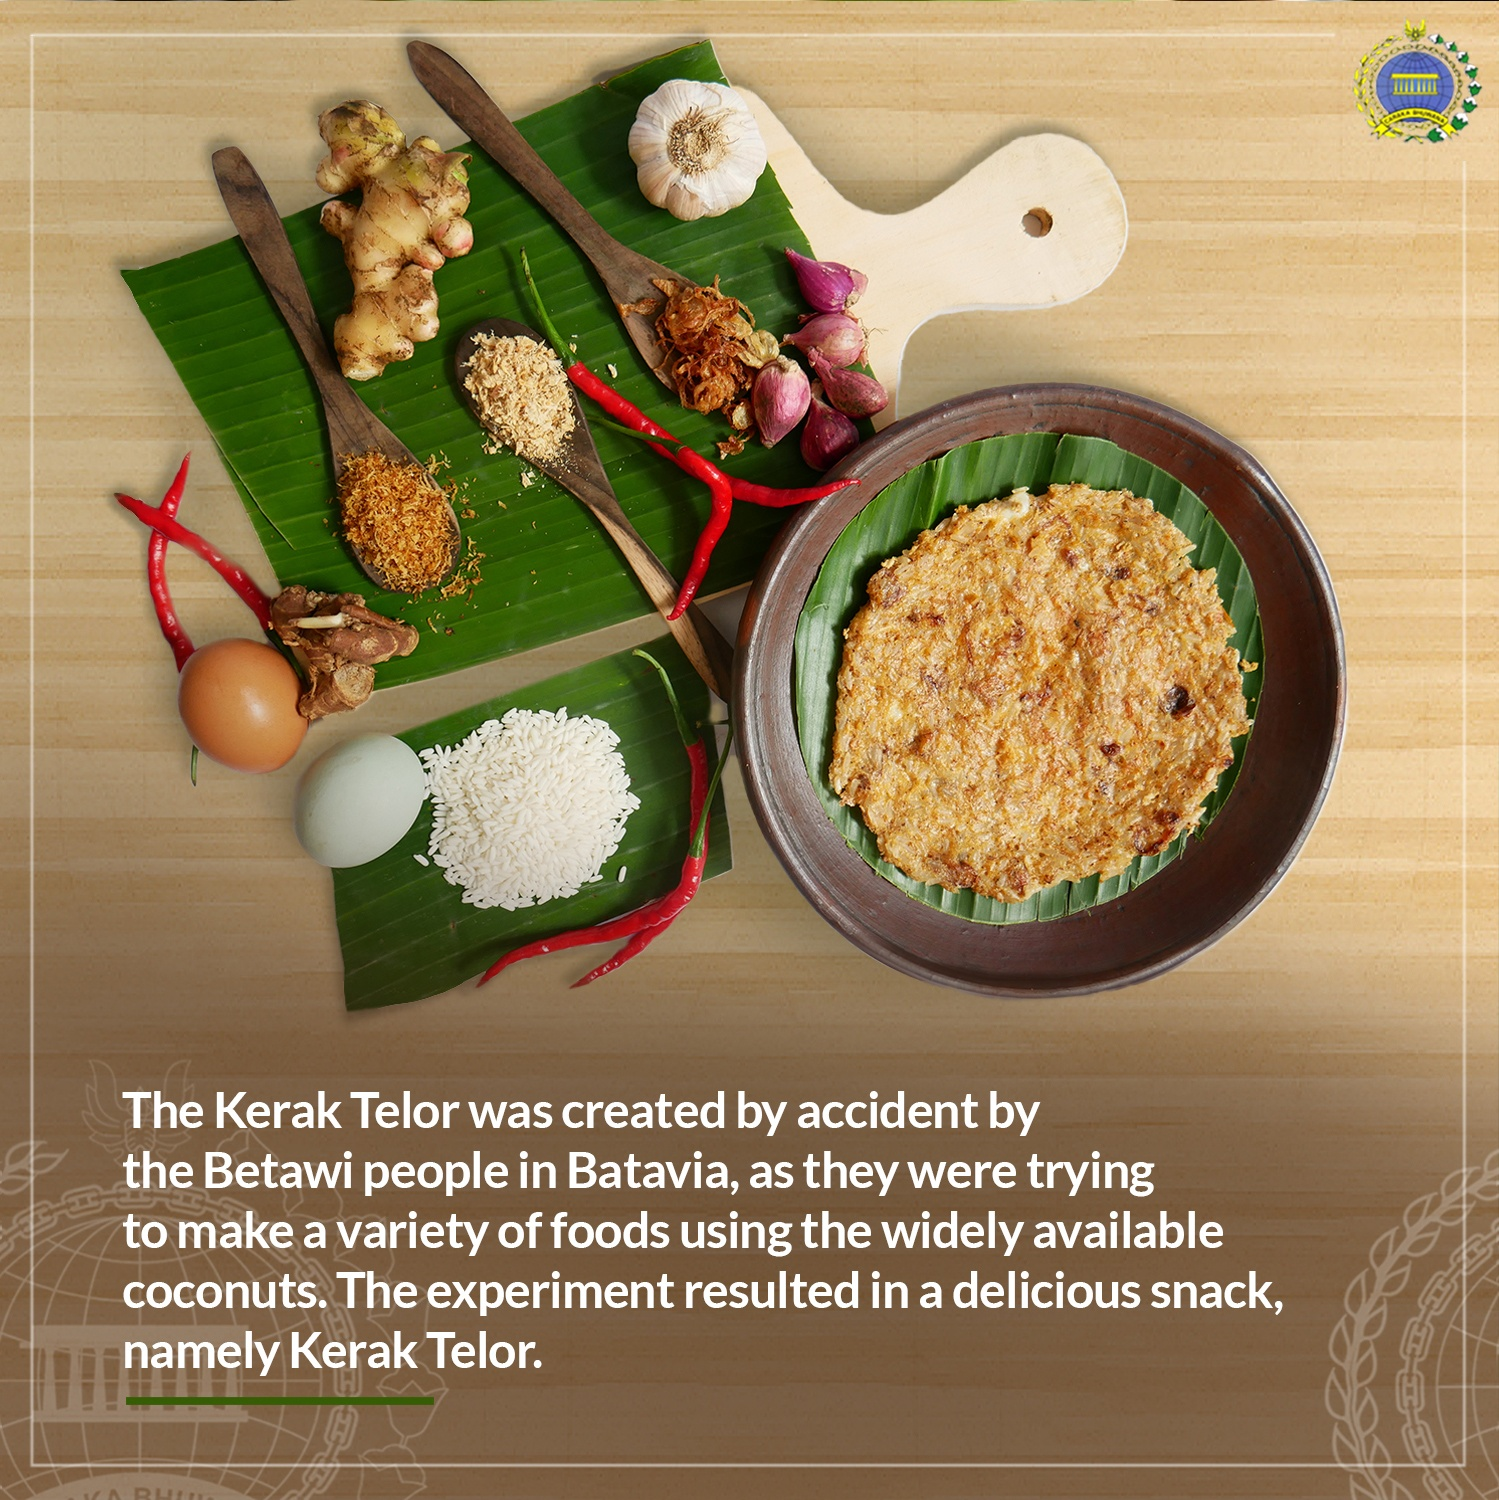kerak_telor: (825, 484, 1251, 904)
